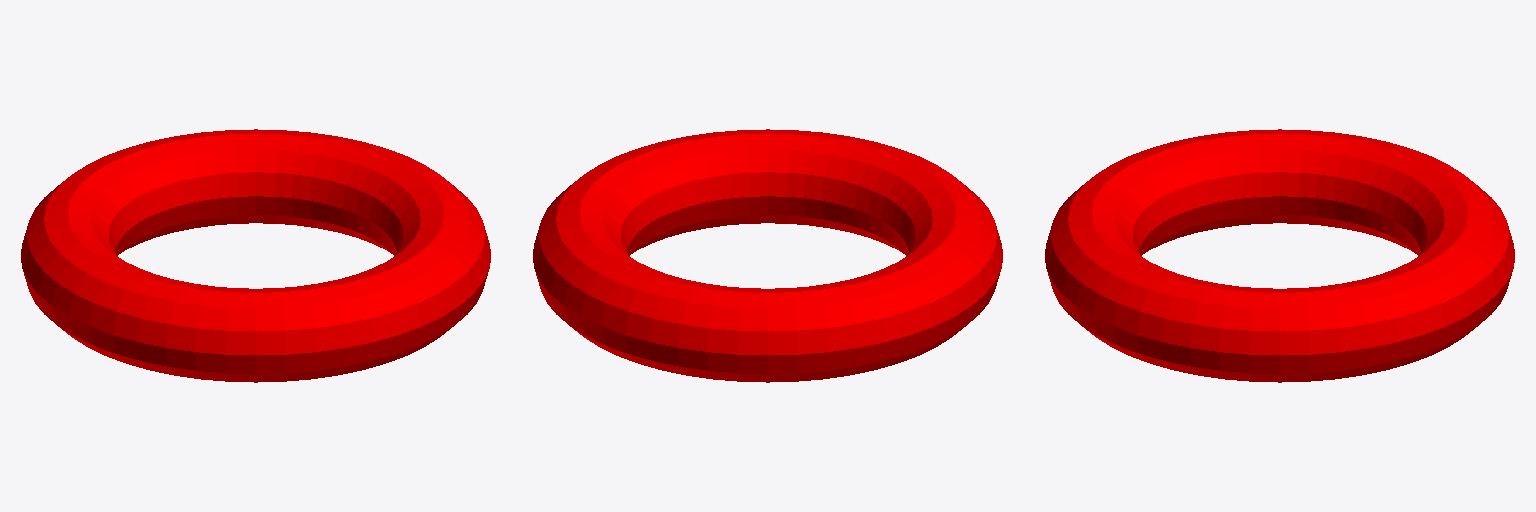
Rendered from ring.obj.
The picture shows the model from 3 angles: view 1: azimuth 30°, elevation 25°; view 2: azimuth 150°, elevation 25°; view 3: azimuth 270°, elevation 25°; orthographic projection.
Visible parts, largest first — view 1: Torus; view 2: Torus; view 3: Torus.
Part boxes in pixels (x1,y1,x2,y2): Torus: (21, 129, 490, 382); Torus: (533, 129, 1002, 382); Torus: (1045, 129, 1514, 382).
Bounding box in the file's own units: 2.5 × 0.5 × 2.5.